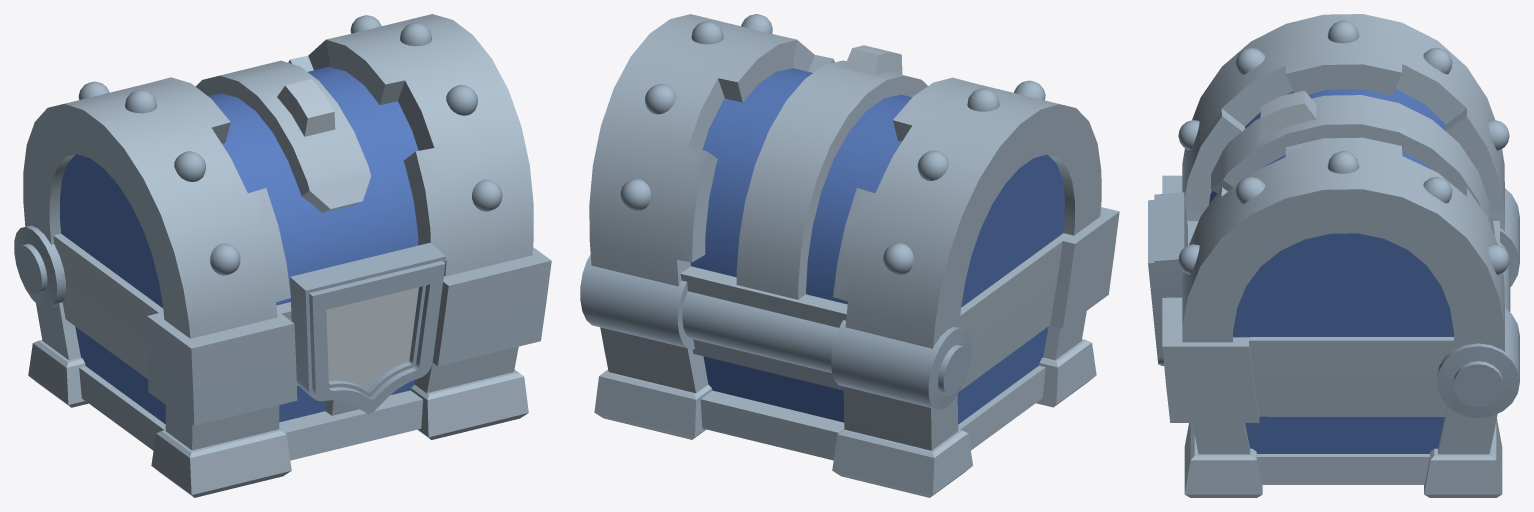
Rendered from Chest H Multi.fbx.
The picture shows the model from 3 angles, left to right: view 1: azimuth 30°, elevation 25°; view 2: azimuth 150°, elevation 25°; view 3: azimuth 270°, elevation 25°; orthographic projection. The views are drawn at different scales.
Visible parts, largest first — view 1: Chest H Cover, Chest H, Chest H Icon; view 2: Chest H Cover, Chest H; view 3: Chest H Cover, Chest H, Chest H Icon.
Part boxes in pixels (box(x1,y1,x2,y2)): Chest H Cover: box(14, 14, 551, 387); Chest H: box(28, 282, 546, 497); Chest H Icon: box(290, 242, 445, 414); Chest H Cover: box(580, 14, 1119, 409); Chest H: box(594, 253, 1114, 497); Chest H Cover: box(1162, 14, 1519, 418); Chest H: box(1166, 379, 1502, 497); Chest H Icon: box(1148, 192, 1187, 365).
Bounding box in the file's own units: 2.93 × 2.6 × 2.63.
